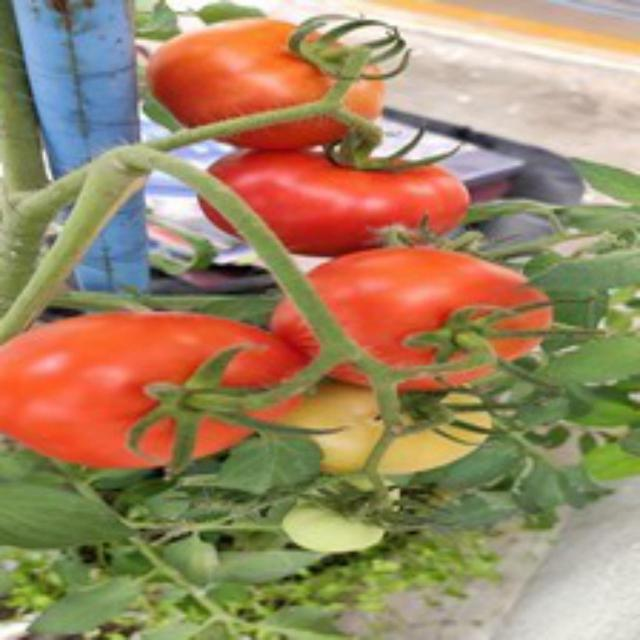tomato: (0, 297, 312, 478), (270, 232, 571, 386), (194, 132, 492, 250), (138, 15, 392, 150)
